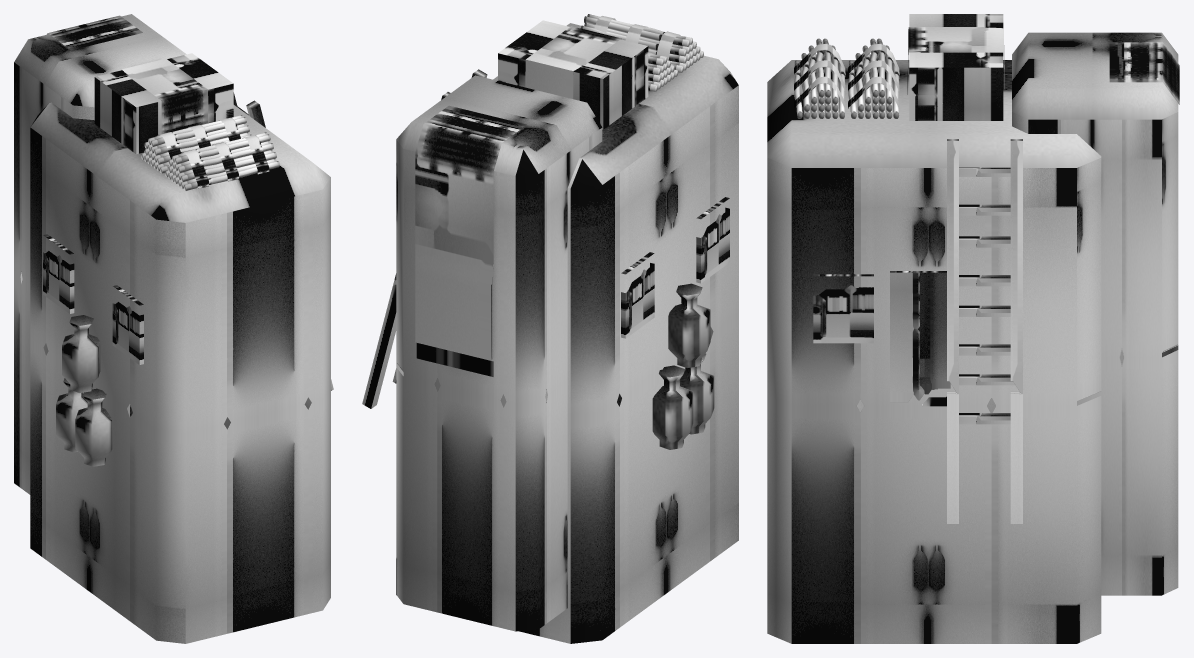
The model's file is storehouse_hopi.dae.
The picture shows the model from 3 angles, left to right: view 1: azimuth 30°, elevation 25°; view 2: azimuth 150°, elevation 25°; view 3: azimuth 270°, elevation 25°; orthographic projection. The views are drawn at different scales.
Visible parts, largest first — view 1: Storehouse; view 2: Storehouse; view 3: Storehouse.
Part boxes in pixels (x1=…): Storehouse: x1=14, y1=14, x2=333, y2=643; Storehouse: x1=362, y1=14, x2=738, y2=643; Storehouse: x1=767, y1=14, x2=1179, y2=643.
Bounding box in the file's own units: 11.96 × 13.54 × 20.02.
